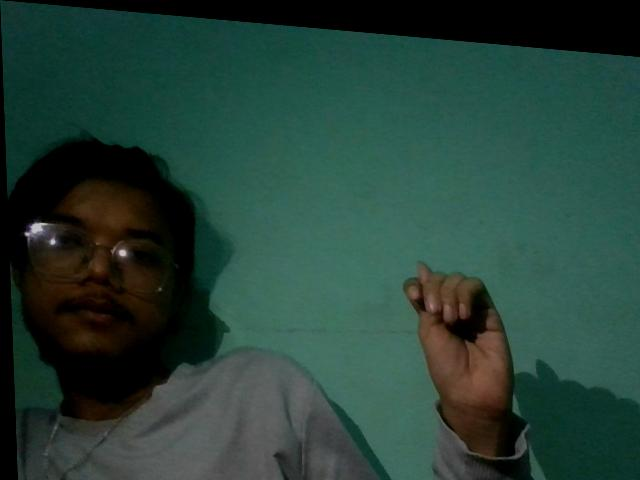Washroom: (390, 244, 535, 439)
